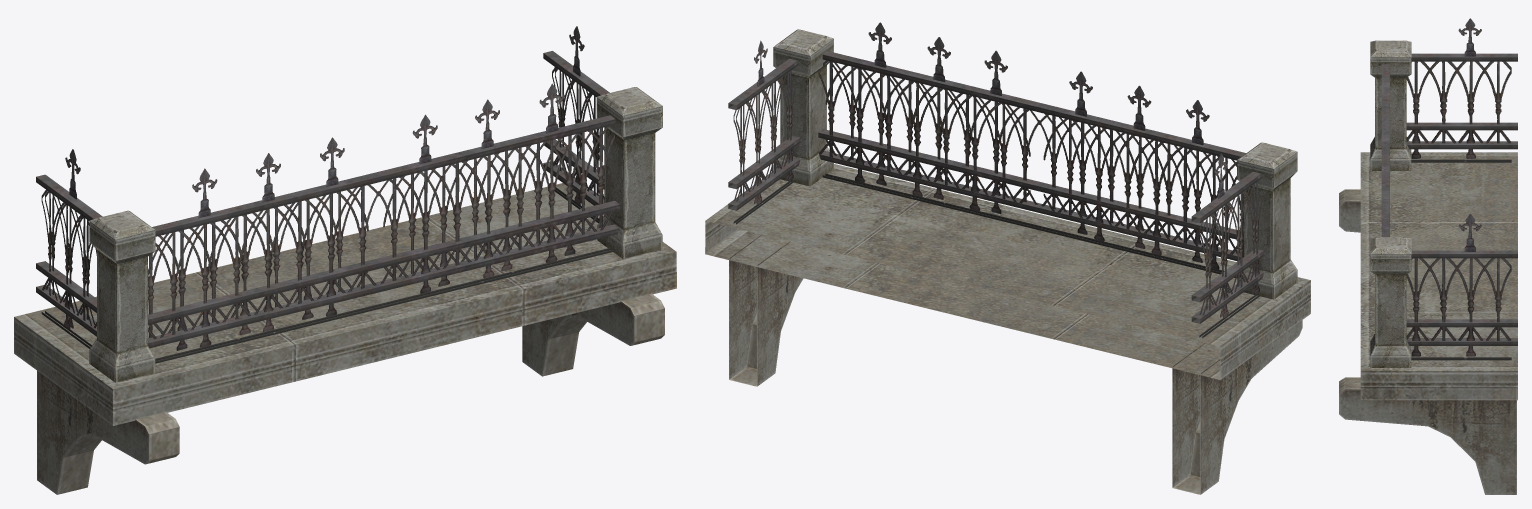
The model's file is bg_lut_lucastle_housebalcony01_sm_sup.FBX.
The picture shows the model from 3 angles, left to right: view 1: azimuth 30°, elevation 25°; view 2: azimuth 150°, elevation 25°; view 3: azimuth 270°, elevation 25°; orthographic projection. The views are drawn at different scales.
Visible parts, largest first — view 1: bg_lut_lucastle_housebalcony01_sm_sup; view 2: bg_lut_lucastle_housebalcony01_sm_sup; view 3: bg_lut_lucastle_housebalcony01_sm_sup.
Boxes of the visible parts, x1=… form: bg_lut_lucastle_housebalcony01_sm_sup: x1=14, y1=26, x2=676, y2=494; bg_lut_lucastle_housebalcony01_sm_sup: x1=705, y1=22, x2=1310, y2=494; bg_lut_lucastle_housebalcony01_sm_sup: x1=1339, y1=18, x2=1517, y2=494.
Size of the model in its own units: 180 by 109 by 62.23.
